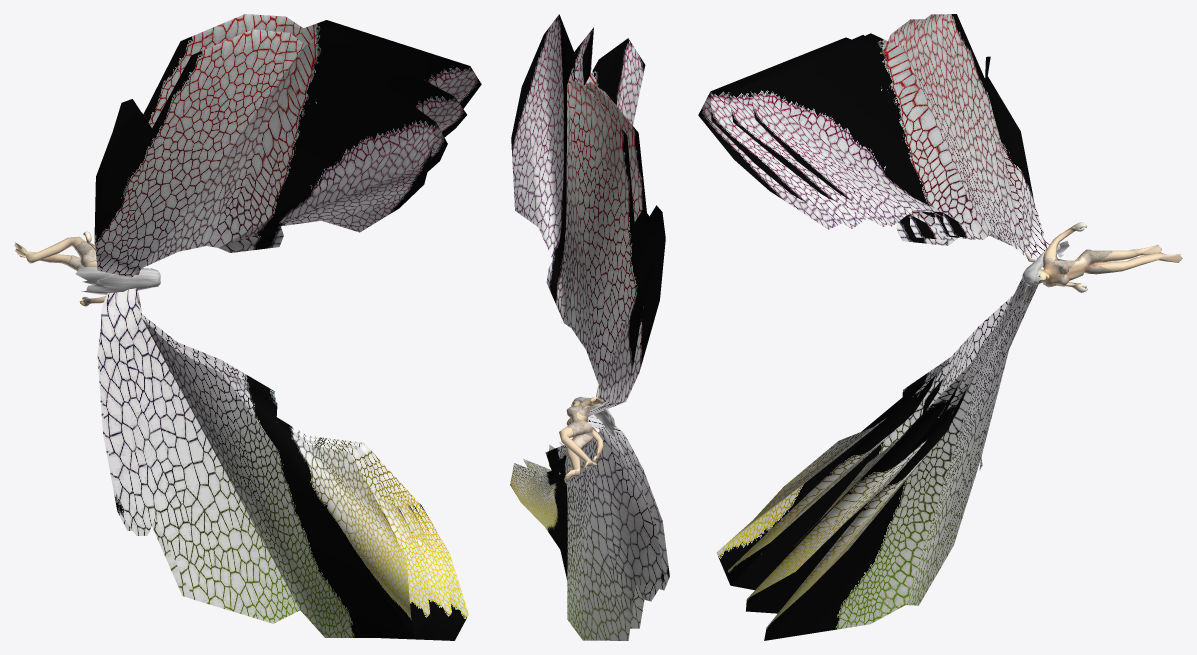
File: angel_000232.obj
The picture shows the model from 3 angles, left to right: view 1: azimuth 30°, elevation 25°; view 2: azimuth 150°, elevation 25°; view 3: azimuth 270°, elevation 25°; orthographic projection. The views are drawn at different scales.
Visible parts, largest first — view 1: wings_Plane.001, body.001_omino.012, hair.003_omino.013; view 2: wings_Plane.001, body.001_omino.012, hair.003_omino.013; view 3: wings_Plane.001, body.001_omino.012.
Part boxes in pixels (<box>): wings_Plane.001: <box>94,14,481,640</box>; body.001_omino.012: <box>14,231,141,310</box>; hair.003_omino.013: <box>75,266,160,294</box>; wings_Plane.001: <box>510,14,669,640</box>; body.001_omino.012: <box>559,386,603,482</box>; hair.003_omino.013: <box>571,396,616,438</box>; wings_Plane.001: <box>698,14,1060,640</box>; body.001_omino.012: <box>1023,222,1182,293</box>.
Size of the model in its own units: 4.74 by 10.78 by 8.01.
